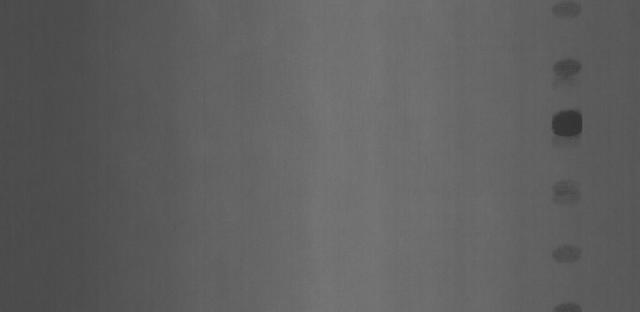oil_spot: (541, 108, 590, 140), (544, 236, 593, 267), (543, 0, 595, 29), (546, 46, 586, 79), (549, 176, 585, 207), (552, 291, 591, 312)
